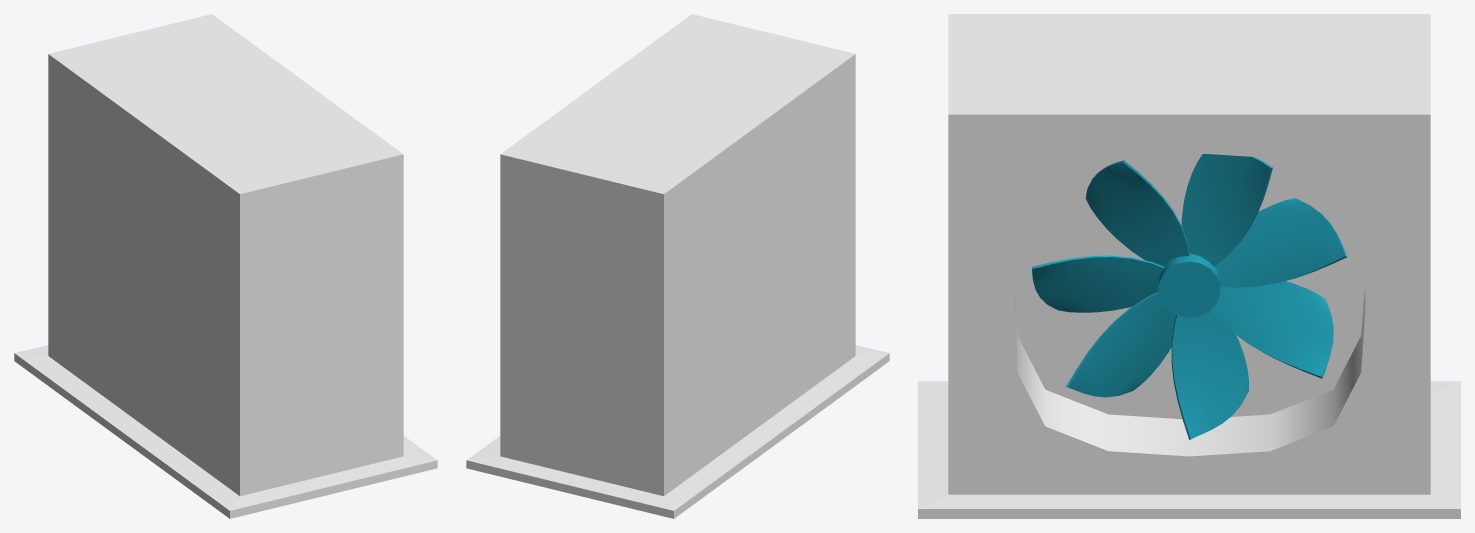
Rendered from Interior_Fan.FBX.
3 views of the same model, side by side, from view 1: azimuth 30°, elevation 25°; view 2: azimuth 150°, elevation 25°; view 3: azimuth 270°, elevation 25° (orthographic). The views are drawn at different scales.
Parts seen in each view (by area): view 1: Box001; view 2: Box001; view 3: Box001.
Boxes of the visible parts, x1,y1,x2,y2 form: Box001: (14, 14, 437, 518); Box001: (466, 14, 889, 518); Box001: (918, 14, 1460, 518).
Size of the model in its own units: 38.1 by 54.56 by 68.53.
1 material, 1 textured.
